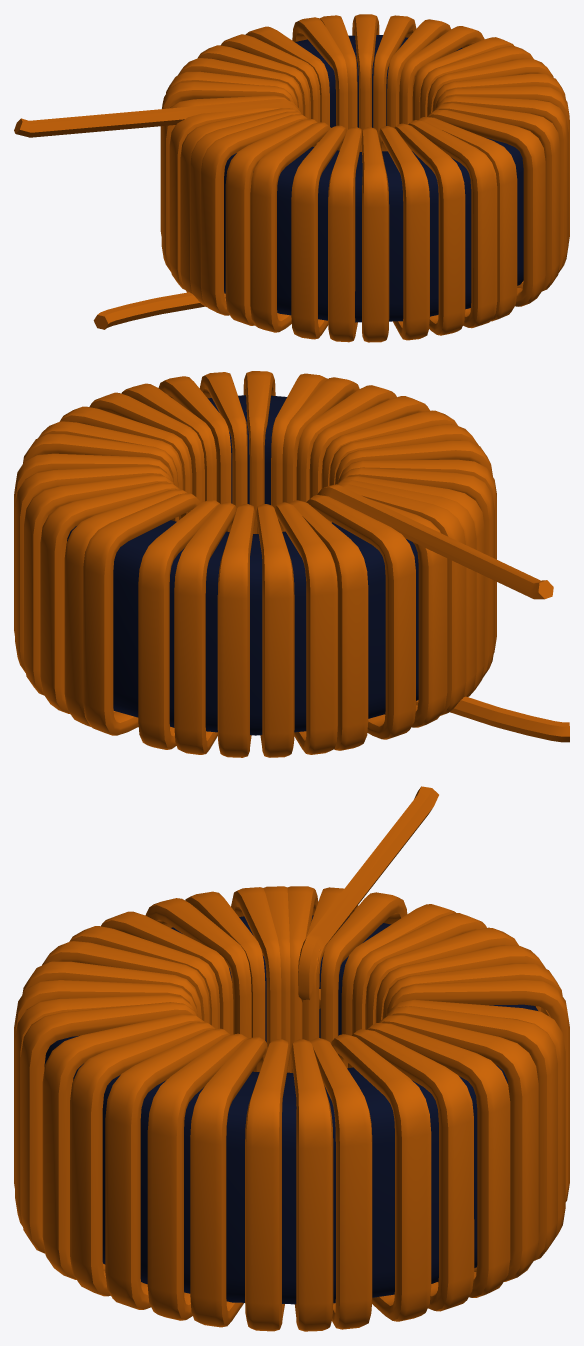
Rendered from ind010.fbx.
3 renders of one model, top to bottom at view 1: azimuth 30°, elevation 25°; view 2: azimuth 150°, elevation 25°; view 3: azimuth 270°, elevation 25°, orthographic. The views are drawn at different scales.
Visible parts, largest first — view 1: ind010_LOD0; view 2: ind010_LOD0; view 3: ind010_LOD0.
Part boxes in pixels (x1,y1,x2,y2): ind010_LOD0: (14,14,569,342); ind010_LOD0: (14,371,569,757); ind010_LOD0: (14,786,569,1331).
Size of what is drawn, in the model's own units: 1.63 by 0.5908 by 1.21.
